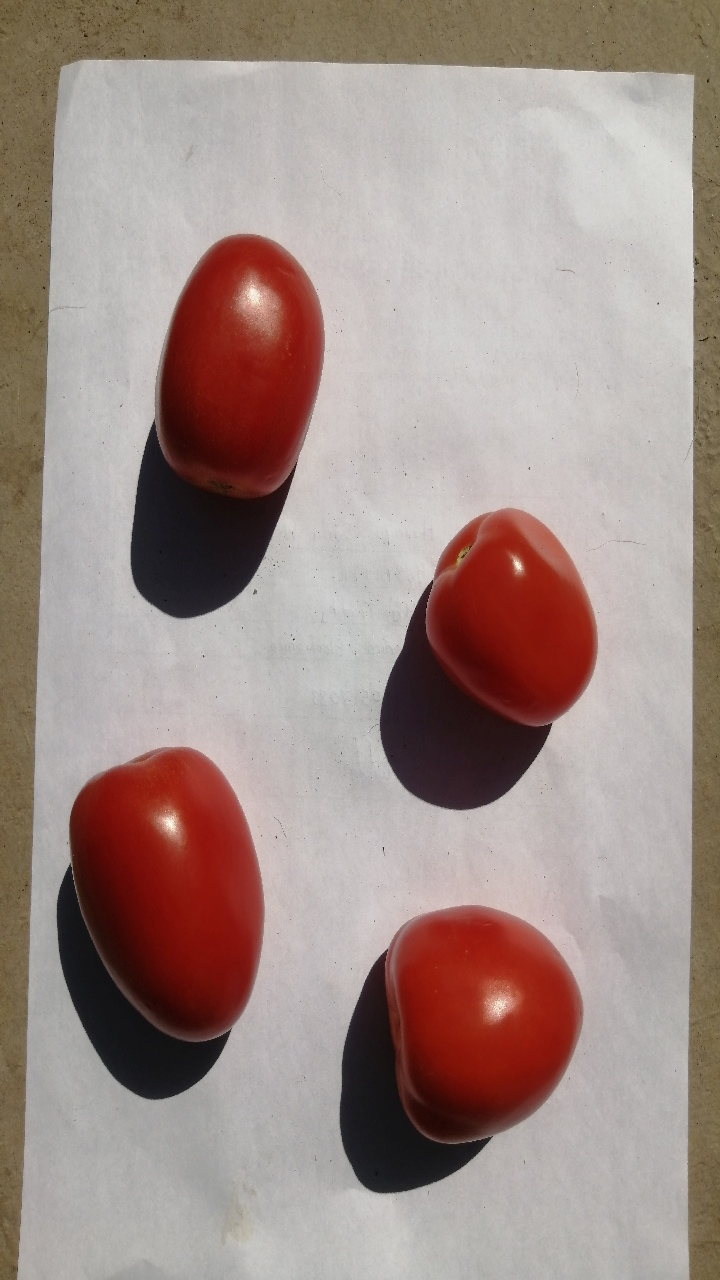tomateRojo: (49, 719, 294, 1065), (117, 195, 341, 519), (368, 875, 603, 1177), (389, 486, 621, 735)
